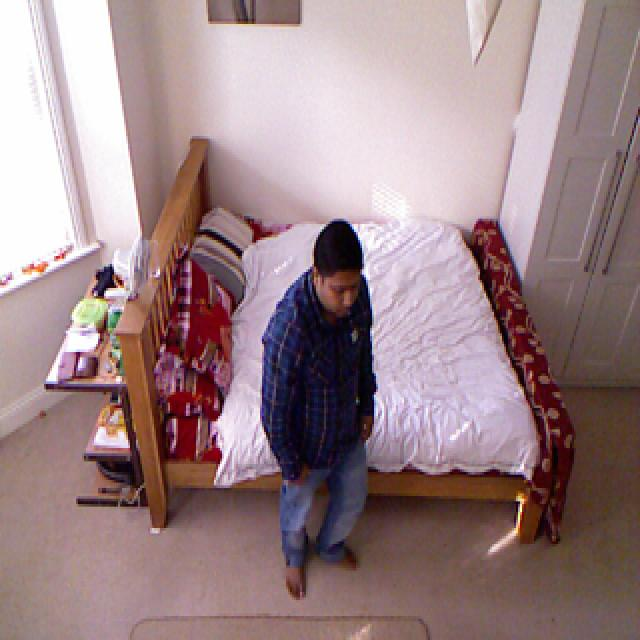standing: (255, 212, 380, 604)
